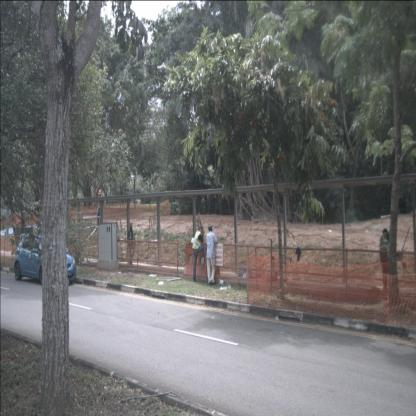human-pedestrian-adult: (206, 224, 218, 286)
movable_object-barrier: (183, 242, 221, 279)
vehicle-car: (14, 233, 76, 286), (129, 200, 142, 211)
